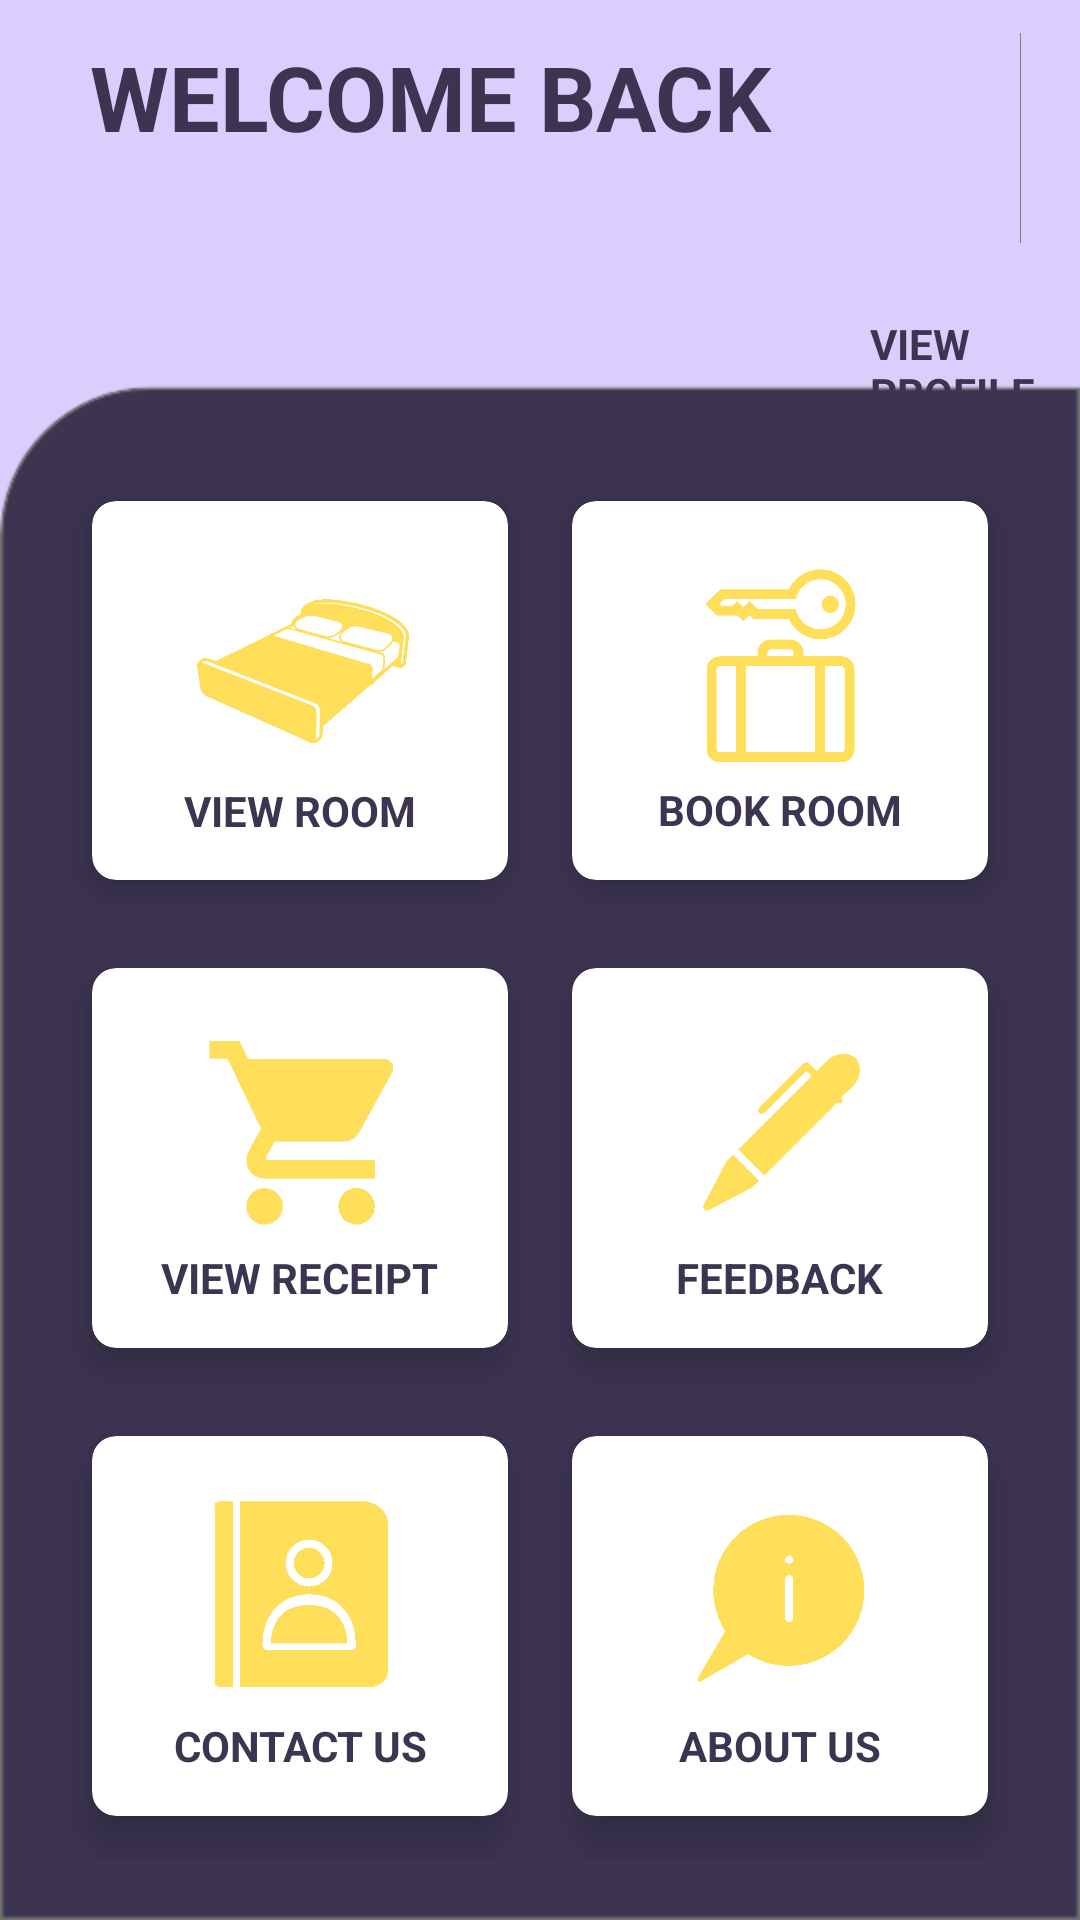

Screen size 1080 x 1920. Icon name, then its center in pixels as point (x, y):
cart: point (301, 1133)
